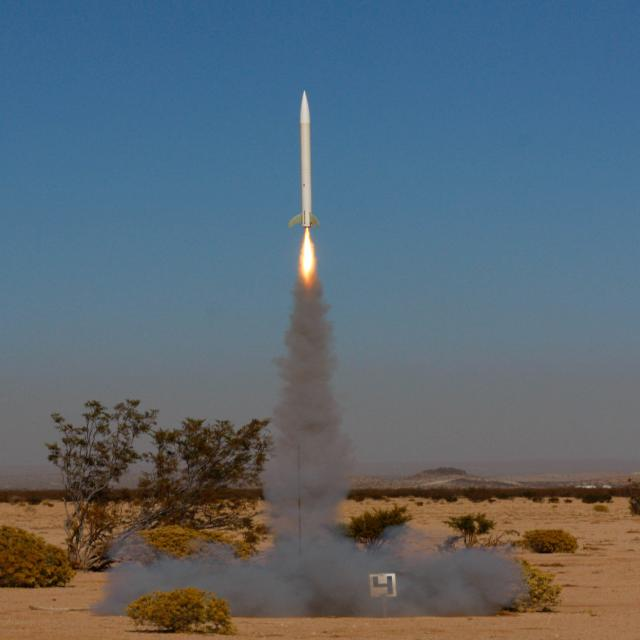Rocket: (288, 90, 320, 230)
